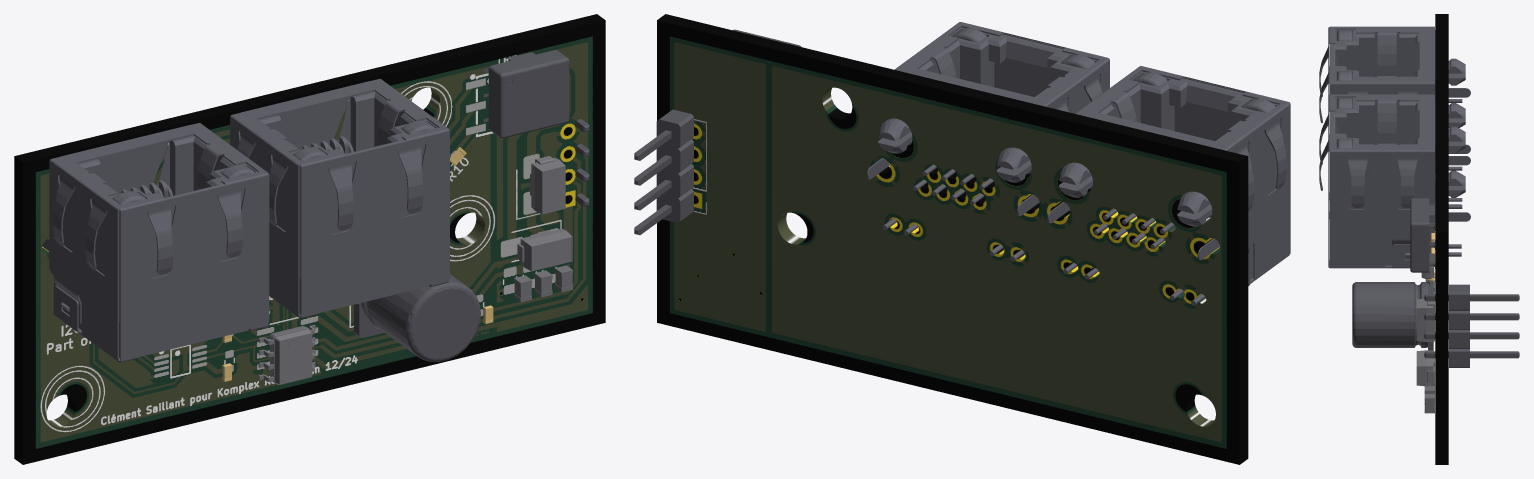
File: i2c_repeater.glb
The picture shows the model from 3 angles, left to right: view 1: azimuth 30°, elevation 25°; view 2: azimuth 150°, elevation 25°; view 3: azimuth 270°, elevation 25°; orthographic projection. The views are drawn at different scales.
Visible parts, largest first — view 1: I2C_Repeater; view 2: I2C_Repeater; view 3: I2C_Repeater.
Boxes of the visible parts, x1,y1,x2,y2 form: I2C_Repeater: [14, 14, 605, 464]; I2C_Repeater: [634, 14, 1290, 464]; I2C_Repeater: [1319, 14, 1519, 464].
Bounding box in the file's own units: 6.25 × 3.1 × 2.42.
7 materials, 2 textured.
